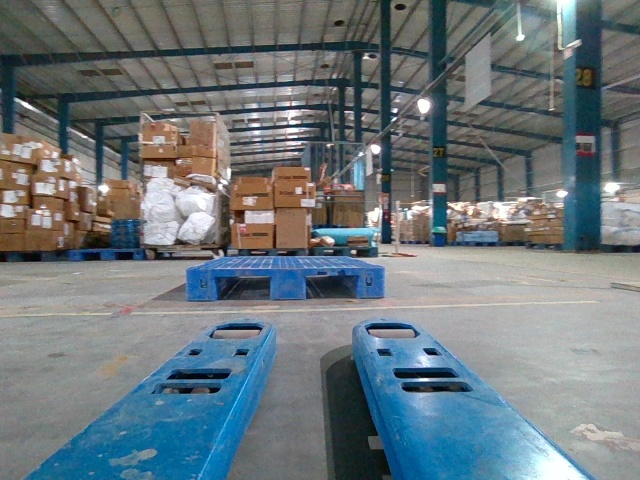block: (184, 266, 220, 302), (269, 266, 306, 301), (359, 263, 385, 298)
front: (186, 267, 385, 300)
hole pallet: (212, 270, 273, 302), (303, 270, 362, 301)
